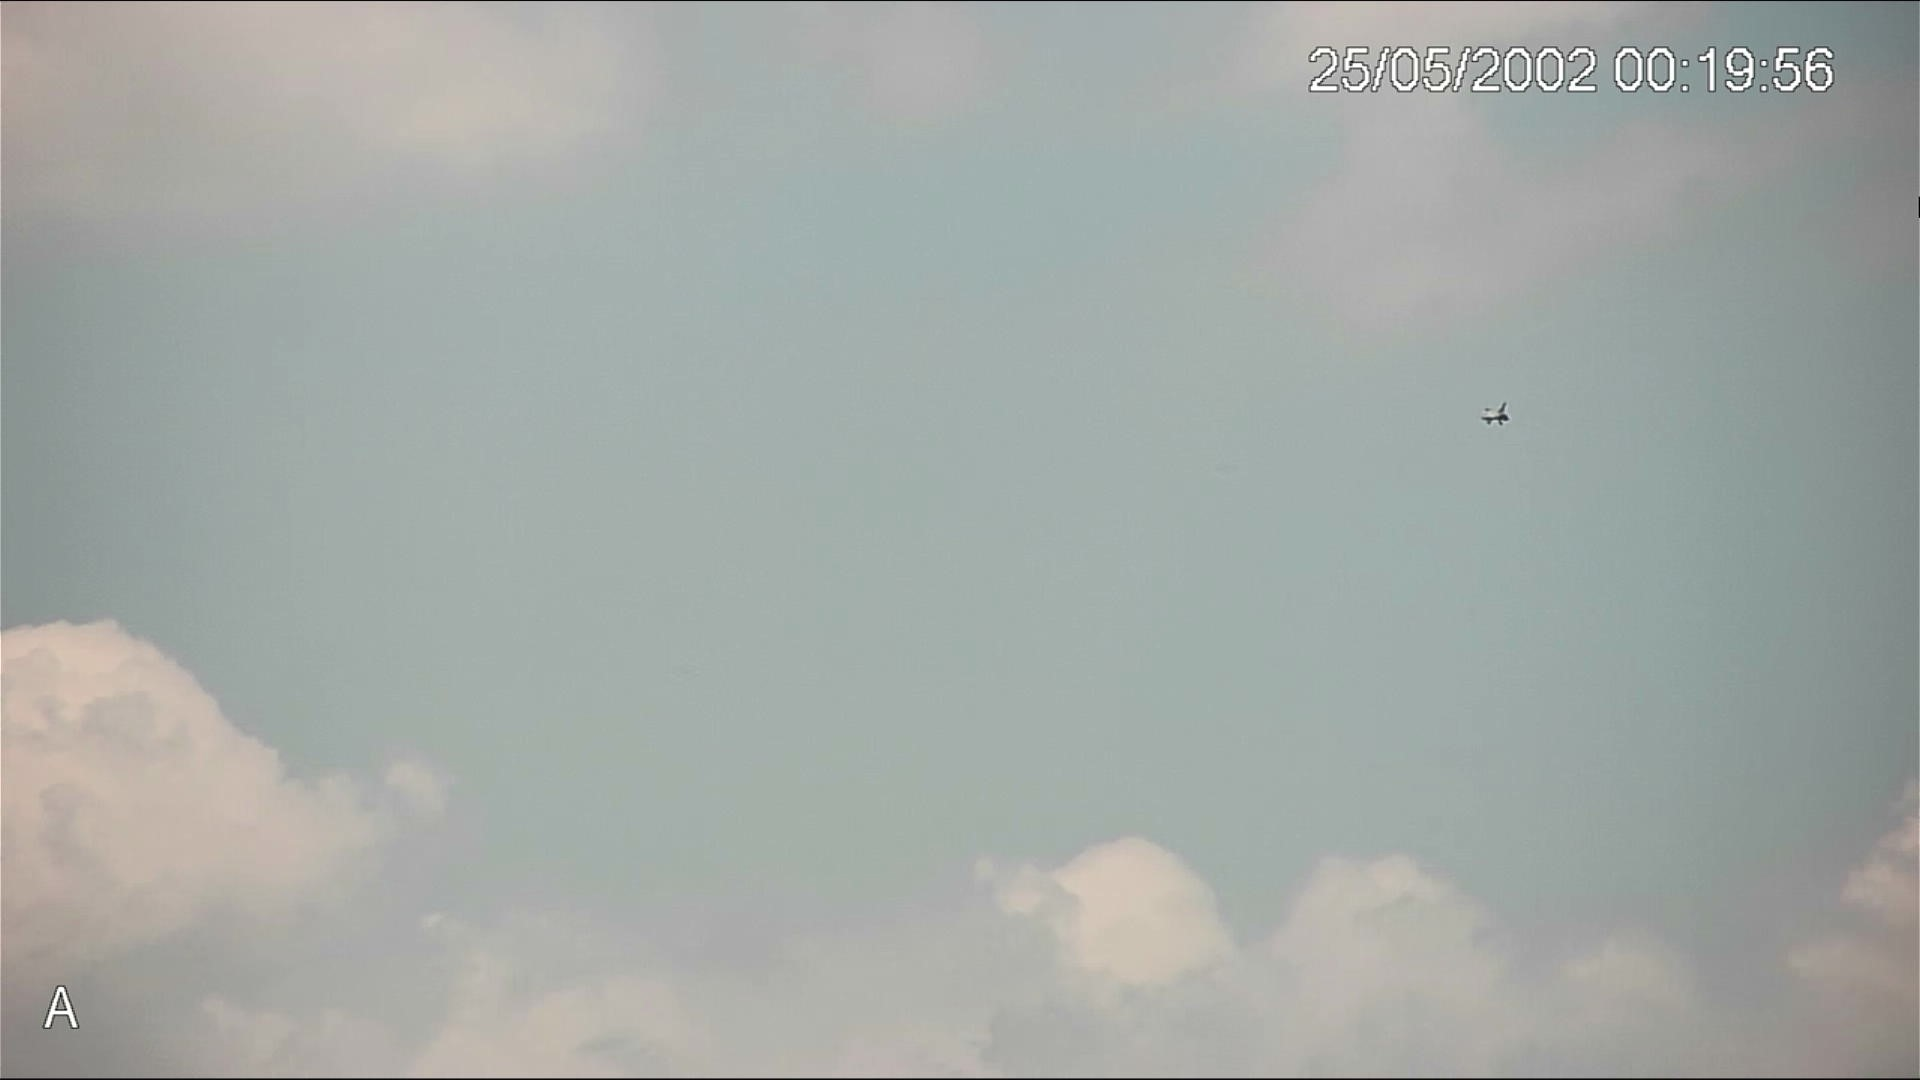SU_30: (1478, 400, 1513, 429)
